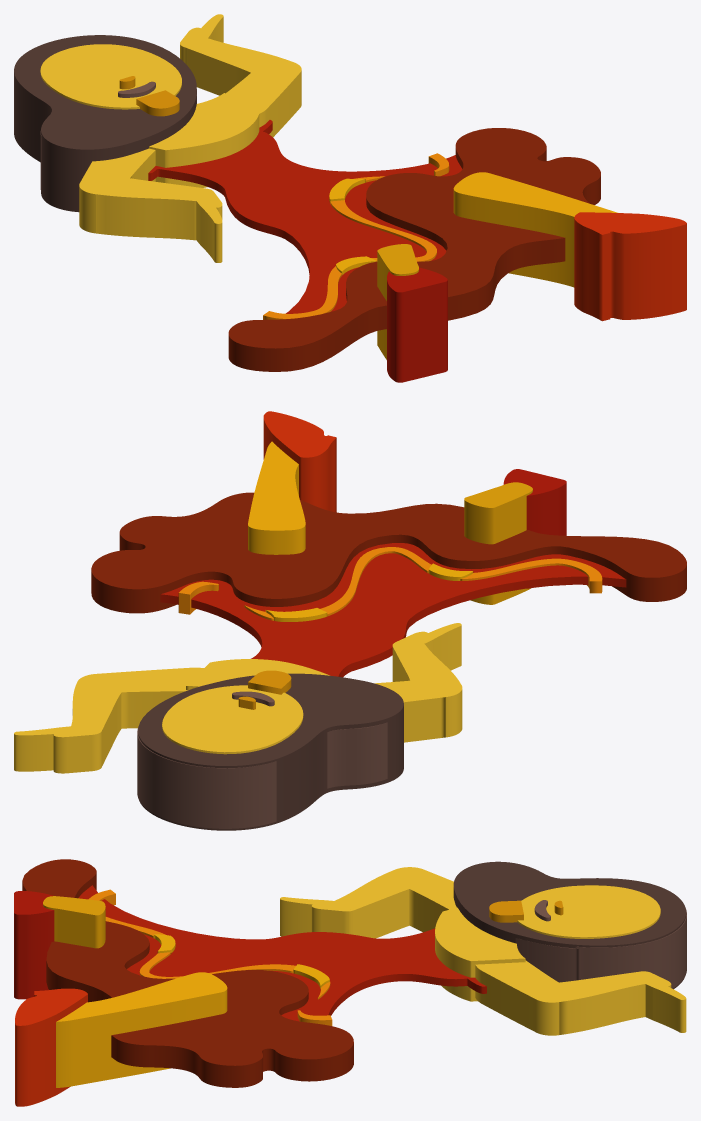
File: emoji_u1f483.glb
3 renders of one model, top to bottom at view 1: azimuth 30°, elevation 25°; view 2: azimuth 150°, elevation 25°; view 3: azimuth 270°, elevation 25°, orthographic. The views are drawn at different scales.
Visible parts, largest first — view 1: emoji_u1f483; view 2: emoji_u1f483; view 3: emoji_u1f483.
Part boxes in pixels (box(x1,y1,x2,y2)): emoji_u1f483: box(14, 14, 686, 382); emoji_u1f483: box(14, 411, 686, 830); emoji_u1f483: box(14, 859, 686, 1106).
Size of the model in its own units: 0.0241 by 0.0048 by 0.0332.
